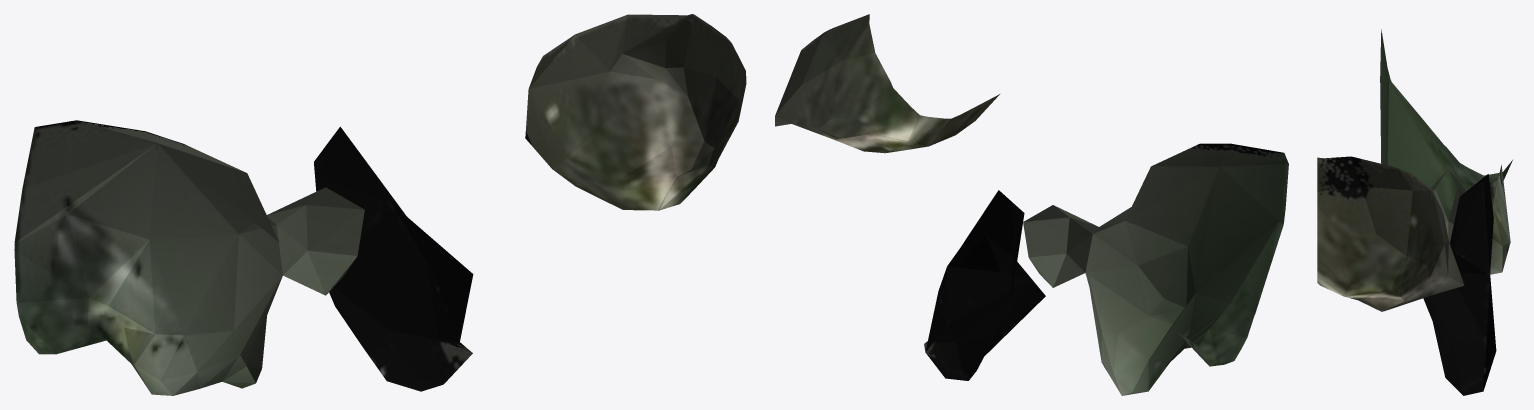
The picture shows the model from 3 angles, left to right: view 1: azimuth 30°, elevation 25°; view 2: azimuth 150°, elevation 25°; view 3: azimuth 270°, elevation 25°; orthographic projection. The views are drawn at different scales.
Bounding box in the file's own units: 4.51 × 2.36 × 1.76.
1 material, 1 textured.
